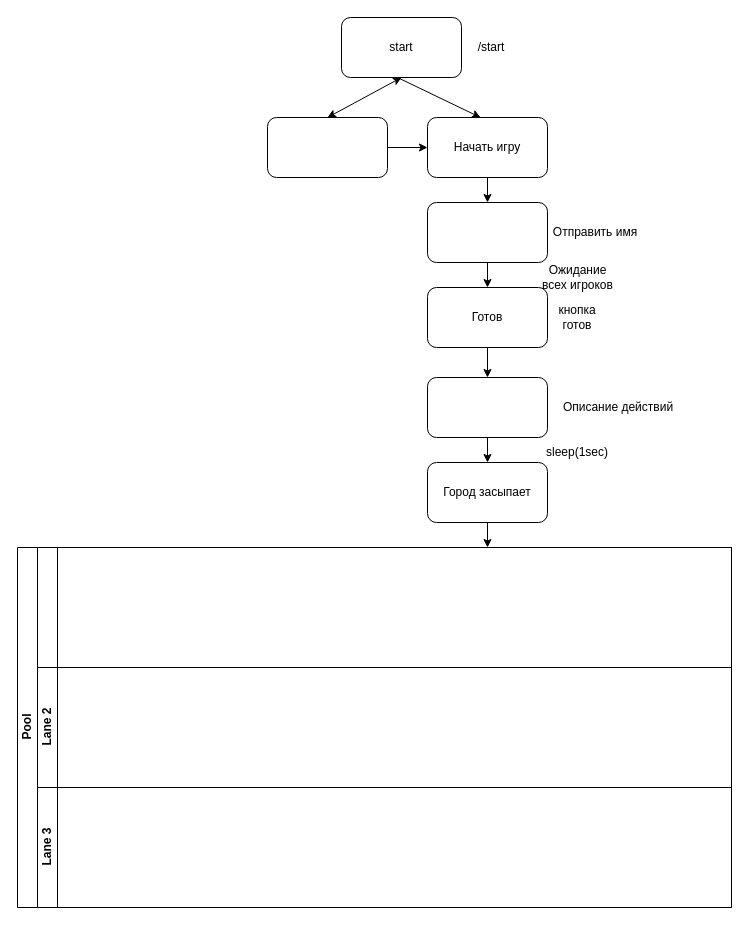
The diagram is 749 pixels wide and 925 high, and some of its shapes have lost their labels. Here are the shapes that lost their labels. From the top down, the centre of each, then its label:
pixel 327 147: Правила
pixel 487 232: Введите имя
pixel 487 407: Ваша роль: *роль*
pixel 384 607: Lane 1
